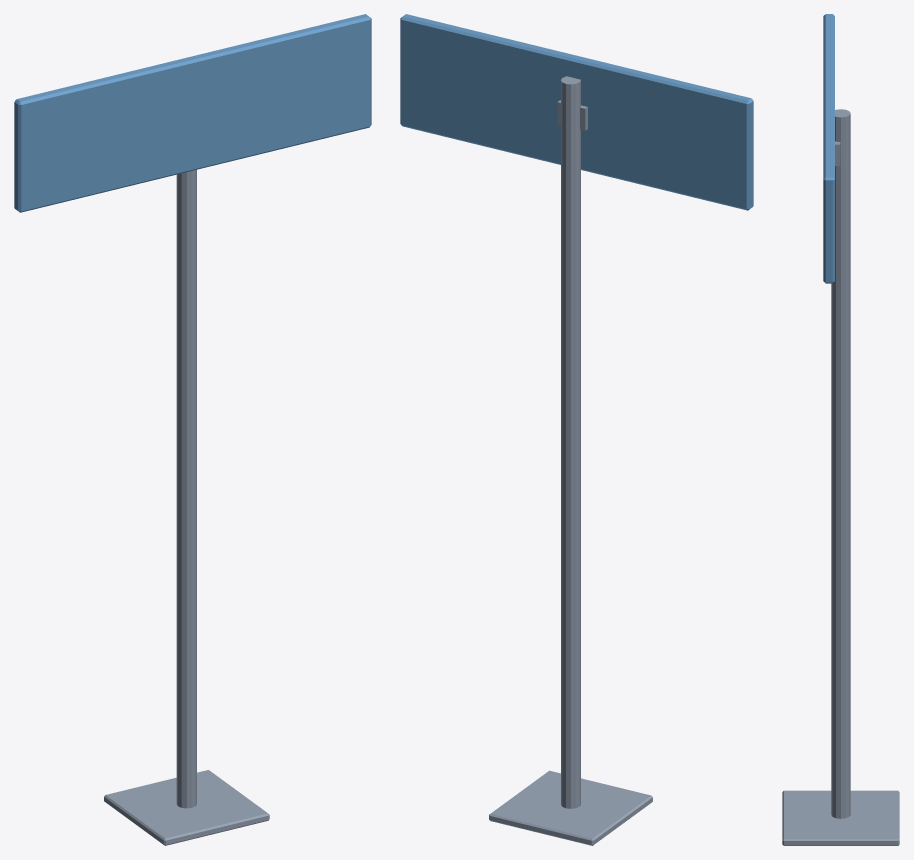
Rendered from outbound_sign.fbx.
The picture shows the model from 3 angles, left to right: view 1: azimuth 30°, elevation 25°; view 2: azimuth 150°, elevation 25°; view 3: azimuth 270°, elevation 25°; orthographic projection. The views are drawn at different scales.
Parts seen in each view (by area): view 1: Sign; view 2: Sign; view 3: Sign.
Part boxes in pixels (x1,y1,x2,y2): Sign: [14, 14, 371, 845]; Sign: [400, 14, 753, 845]; Sign: [782, 14, 899, 845].
Size of the model in its own units: 1 by 2.05 by 0.3.
